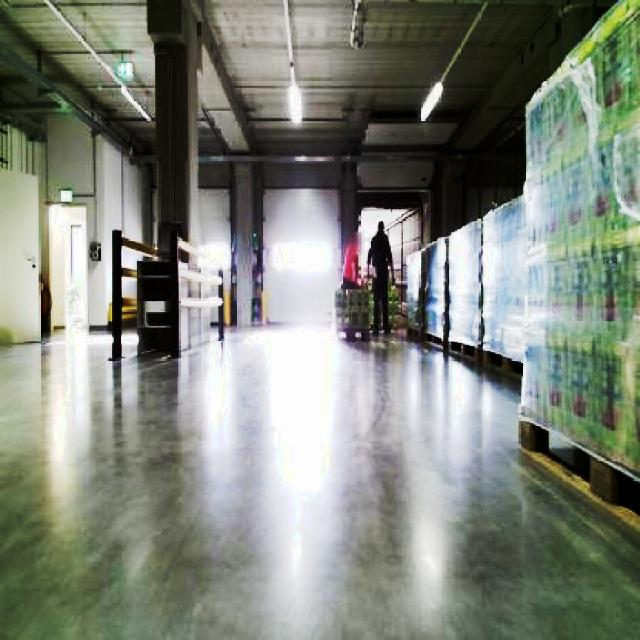ground: (0, 318, 638, 638)
pallet: (515, 0, 638, 637), (108, 220, 225, 360), (175, 234, 225, 352), (331, 265, 406, 340), (134, 255, 177, 357), (332, 286, 372, 340)
